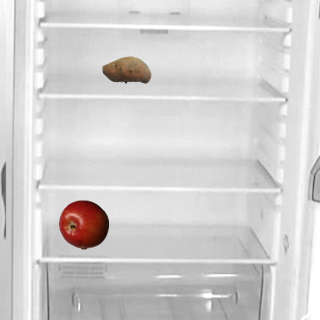Apple Braeburn: (58, 199, 108, 249)
Potato Sweet: (101, 44, 151, 94)
